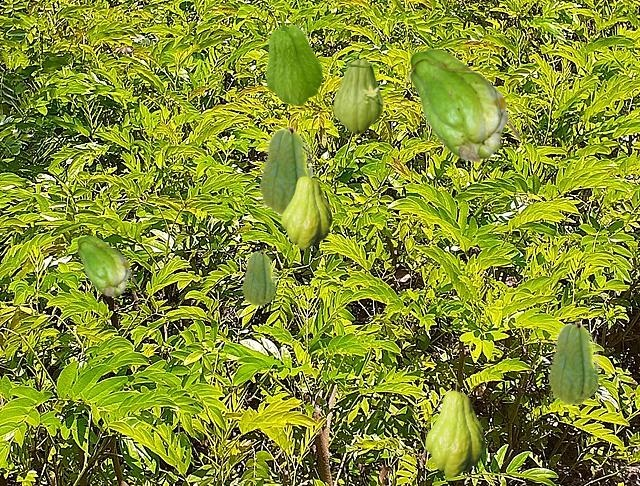sayote: (404, 48, 518, 162), (425, 381, 484, 476), (258, 126, 314, 216), (264, 19, 323, 104), (547, 321, 600, 406), (333, 59, 387, 134), (281, 168, 331, 248), (74, 235, 135, 296), (241, 250, 276, 306)
